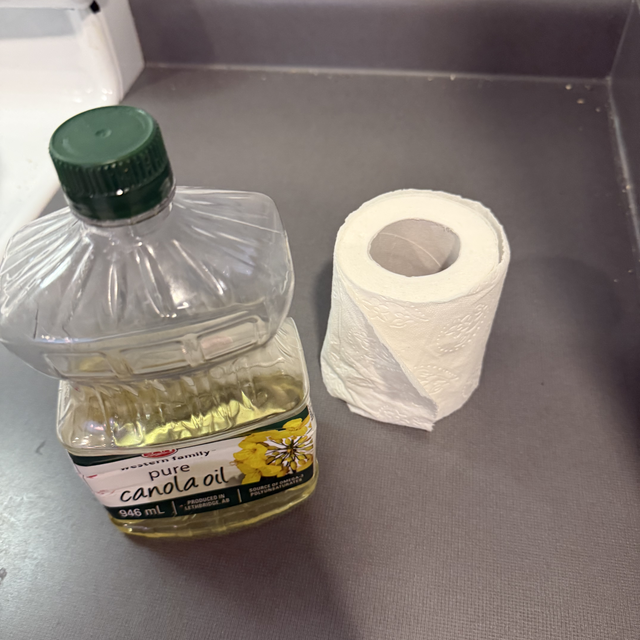Canola Oil: (9, 120, 331, 523)
Toilet Paper: (305, 185, 508, 461)
